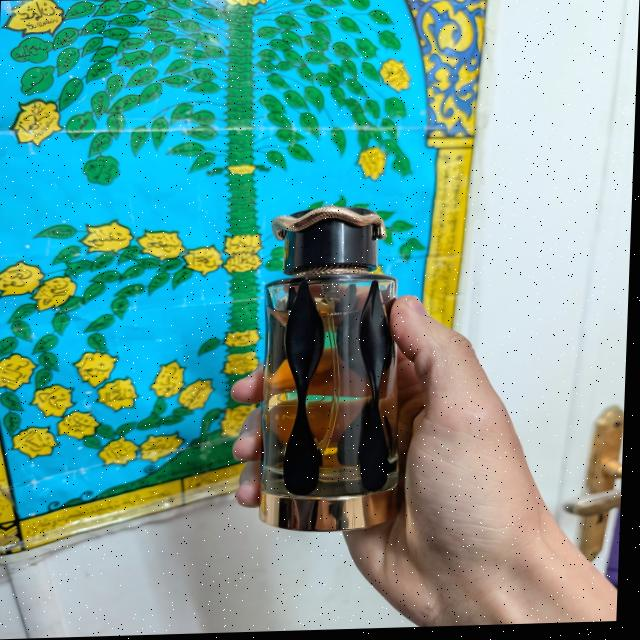Teriaq-Intense: (253, 203, 416, 537)
